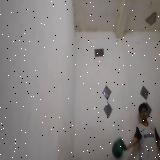Helmet: (112, 138, 124, 158)
